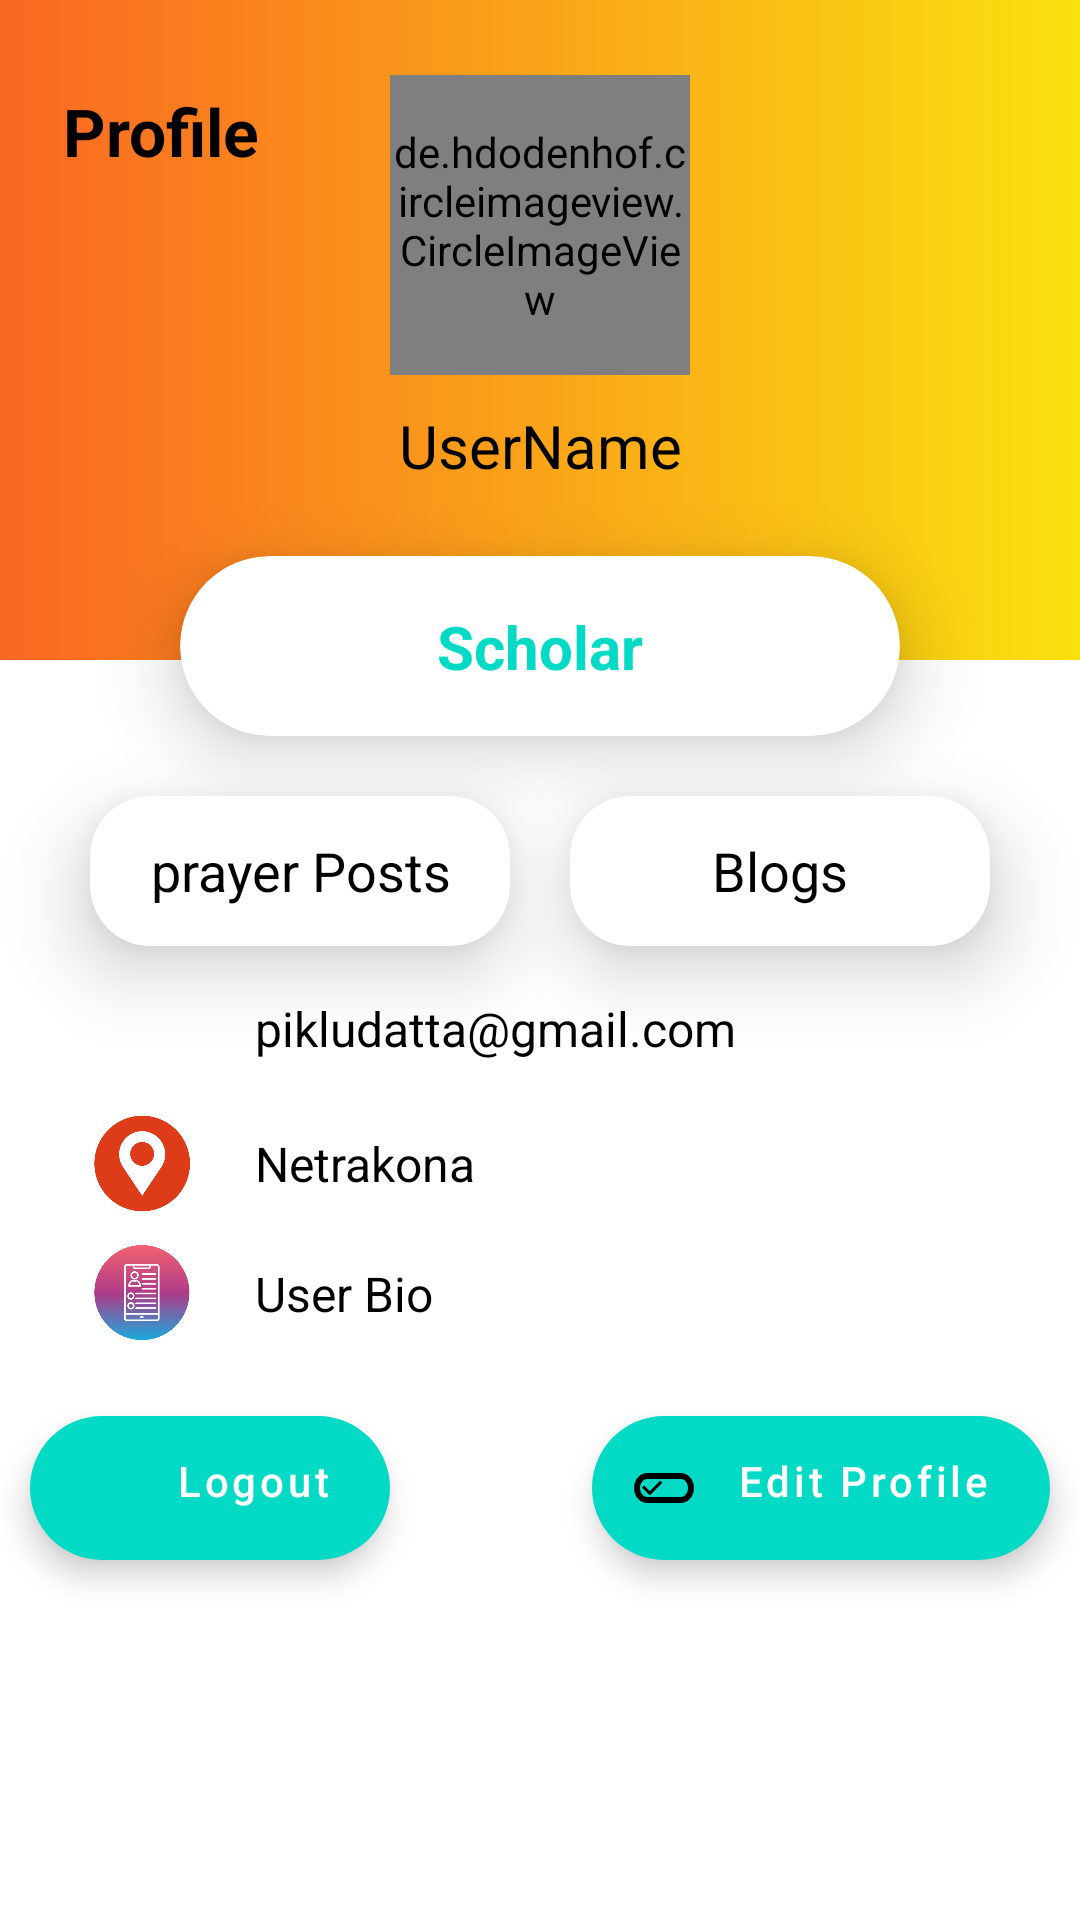

Point at icon controls on the screen. Image size 1080px×1920px, points as point (x, y).
location: point (142, 1163)
